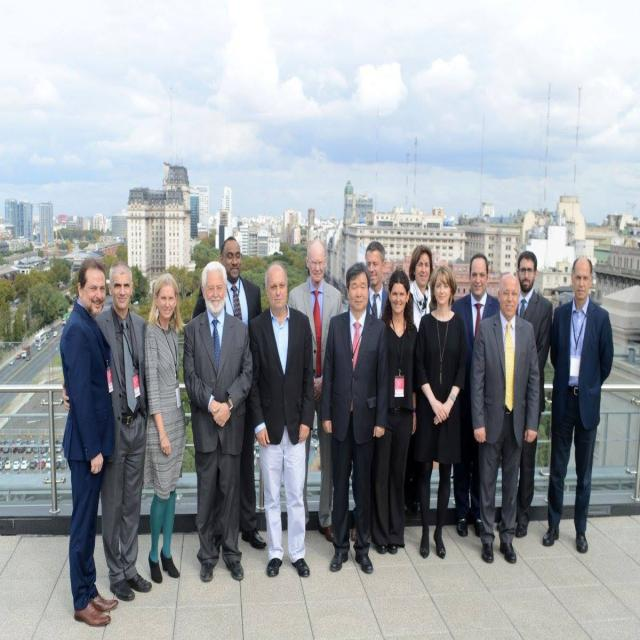body: (190, 232, 268, 552), (242, 258, 316, 580), (57, 254, 120, 627), (180, 256, 252, 581), (318, 259, 391, 575), (541, 254, 616, 553), (470, 268, 541, 564), (95, 259, 153, 602), (287, 238, 344, 542), (411, 261, 468, 560), (142, 267, 188, 586), (370, 266, 420, 555), (450, 254, 500, 538), (514, 249, 554, 539), (408, 243, 433, 332), (364, 240, 390, 320)
